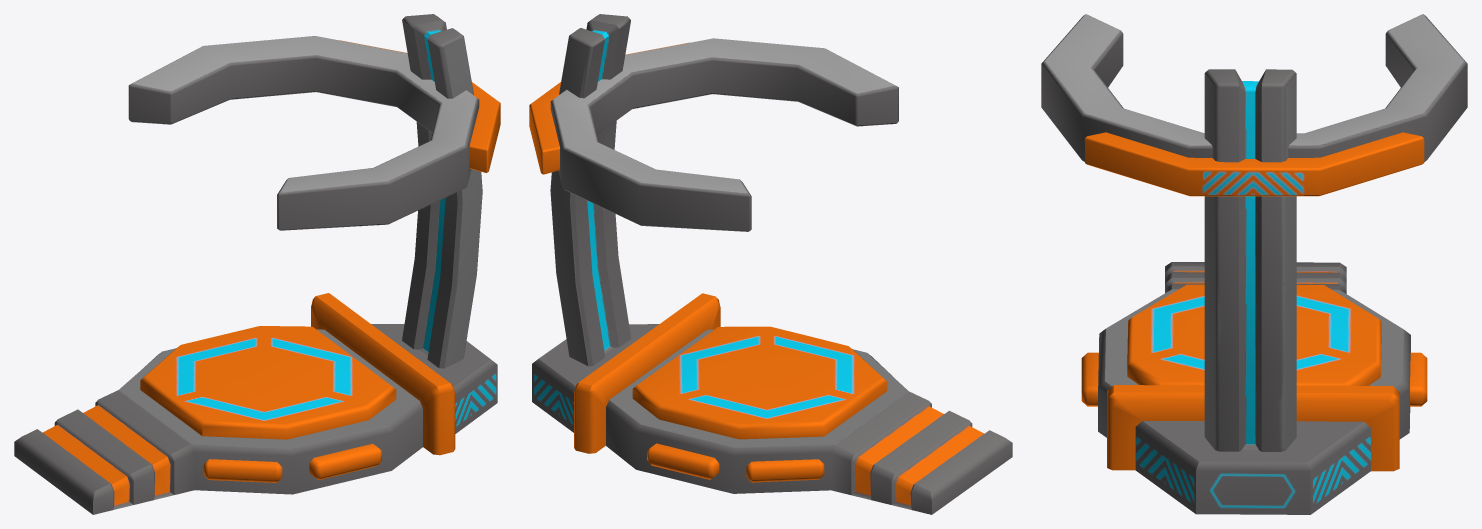
The model's file is SM_Props_19.fbx.
3 views of the same model, side by side, from view 1: azimuth 30°, elevation 25°; view 2: azimuth 150°, elevation 25°; view 3: azimuth 270°, elevation 25° (orthographic). The views are drawn at different scales.
Visible parts, largest first — view 1: SM_Props_19; view 2: SM_Props_19; view 3: SM_Props_19.
Part boxes in pixels (box(x1,y1,x2,y2)): SM_Props_19: box(14, 14, 500, 514); SM_Props_19: box(529, 14, 1012, 514); SM_Props_19: box(1041, 14, 1467, 514).
Bounding box in the file's own units: 66.36 × 51.45 × 55.55.
